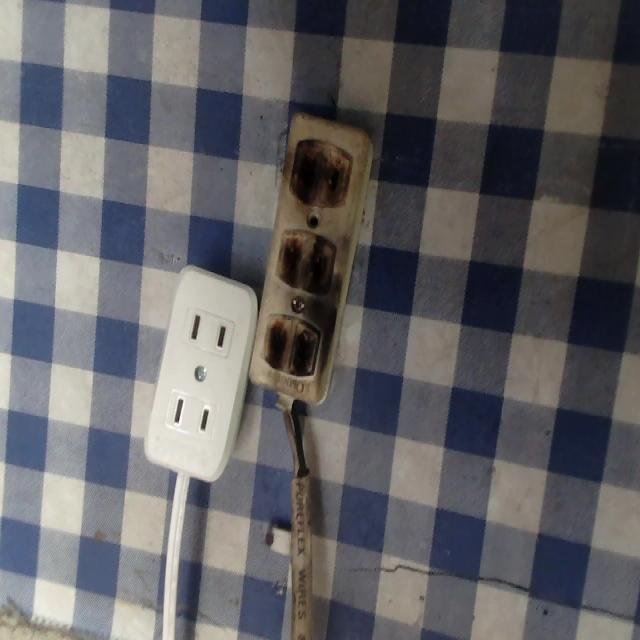-: (289, 130, 350, 202), (257, 316, 320, 380), (280, 232, 334, 296)
